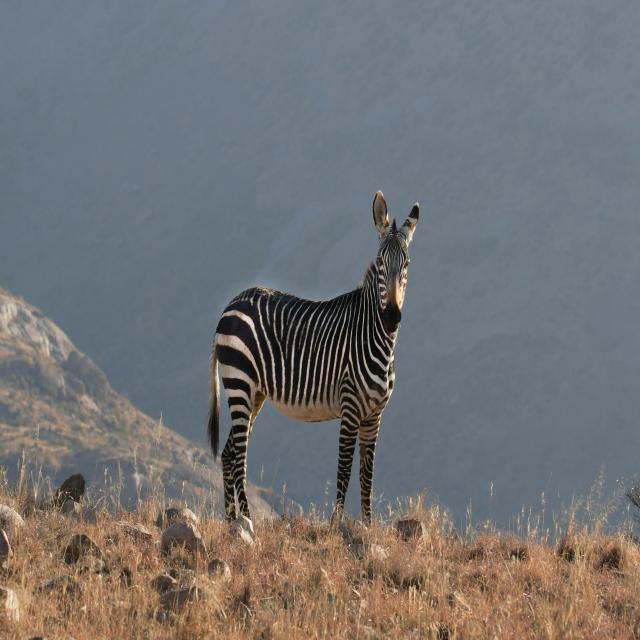Zebra: (205, 189, 421, 520)
